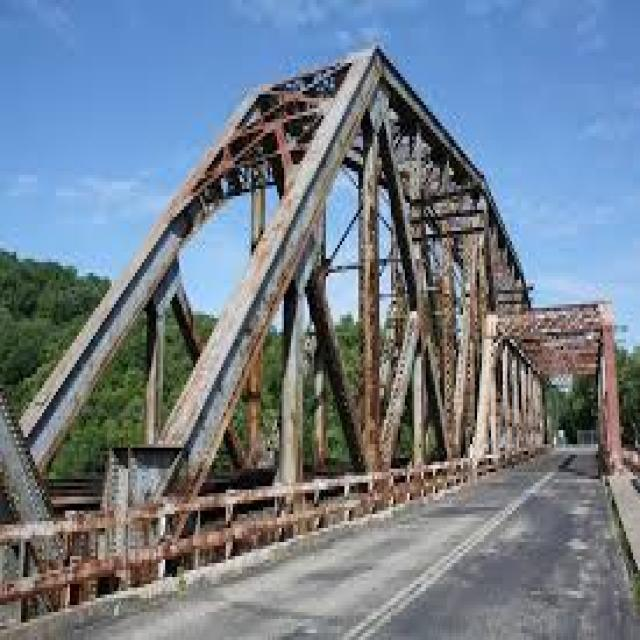Bridges: (0, 22, 640, 610)
